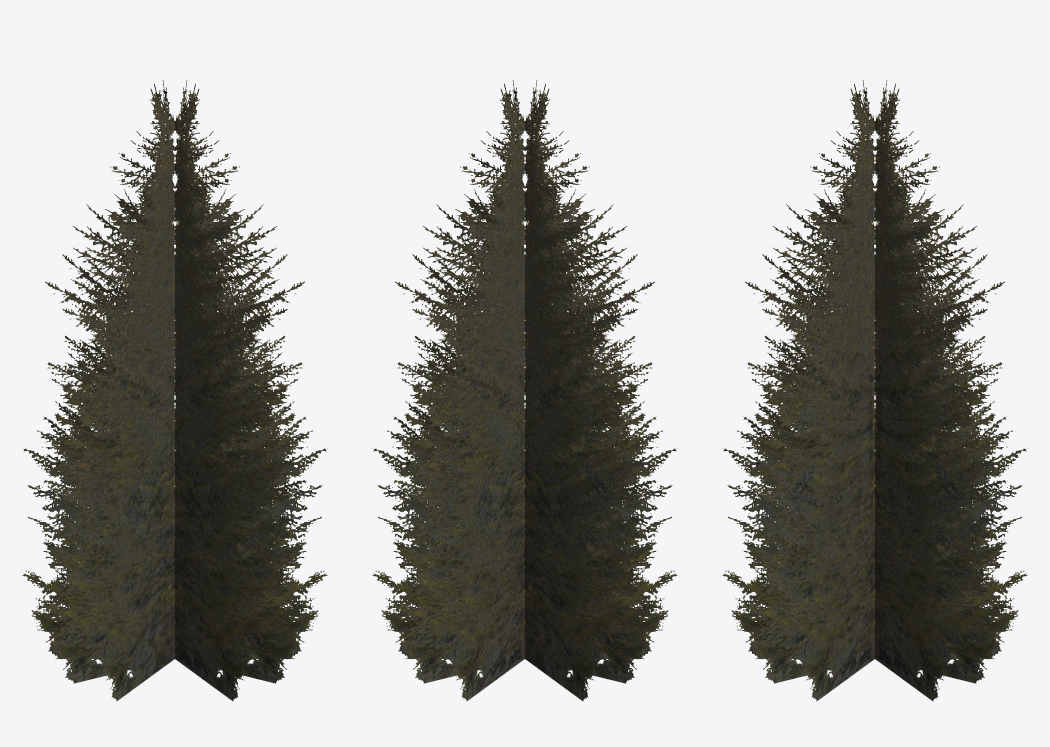
The model's file is coniferous-tree-v-billboards.fbx.
The picture shows the model from 3 angles, left to right: view 1: azimuth 30°, elevation 25°; view 2: azimuth 150°, elevation 25°; view 3: azimuth 270°, elevation 25°; orthographic projection.
Visible parts, largest first — view 1: v.007, v.011, v.010, v.006, v.009, v.008, v.012, v.005, v.001, v.004; view 2: v.003, v.006, v.005, v.007, v.004, v.002, v.008, v.001, v.009, v.012; view 3: v.002, v.012, v.010, v.011, v.003, v.004, v.009, v.001, v.005, v.008.
Part boxes in pixels (left/top/right/bottom): v.007: left=43, top=93, right=174, bottom=691; v.011: left=175, top=93, right=327, bottom=683; v.010: left=175, top=97, right=305, bottom=701; v.006: left=22, top=89, right=174, bottom=677; v.009: left=175, top=118, right=251, bottom=681; v.008: left=99, top=97, right=174, bottom=701; v.012: left=175, top=89, right=327, bottom=658; v.005: left=22, top=83, right=174, bottom=658; v.001: left=175, top=83, right=306, bottom=631; v.004: left=43, top=80, right=174, bottom=596; v.003: left=393, top=93, right=524, bottom=683; v.006: left=525, top=97, right=655, bottom=701; v.005: left=525, top=118, right=601, bottom=691; v.007: left=525, top=93, right=677, bottom=683; v.004: left=449, top=97, right=524, bottom=701; v.002: left=372, top=89, right=524, bottom=677; v.008: left=525, top=89, right=677, bottom=658; v.001: left=372, top=83, right=524, bottom=658; v.009: left=525, top=83, right=656, bottom=631; v.012: left=393, top=80, right=524, bottom=596; v.002: left=875, top=97, right=1005, bottom=701; v.012: left=799, top=97, right=874, bottom=701; v.010: left=722, top=89, right=874, bottom=677; v.011: left=743, top=93, right=874, bottom=683; v.003: left=875, top=93, right=1027, bottom=683; v.004: left=875, top=89, right=1027, bottom=658; v.009: left=722, top=83, right=874, bottom=658; v.001: left=875, top=118, right=951, bottom=681; v.005: left=875, top=83, right=1006, bottom=631; v.008: left=743, top=80, right=874, bottom=596.
Size of the model in its own units: 100 by 200 by 100.
Materials: 1 (1 with a texture image).
